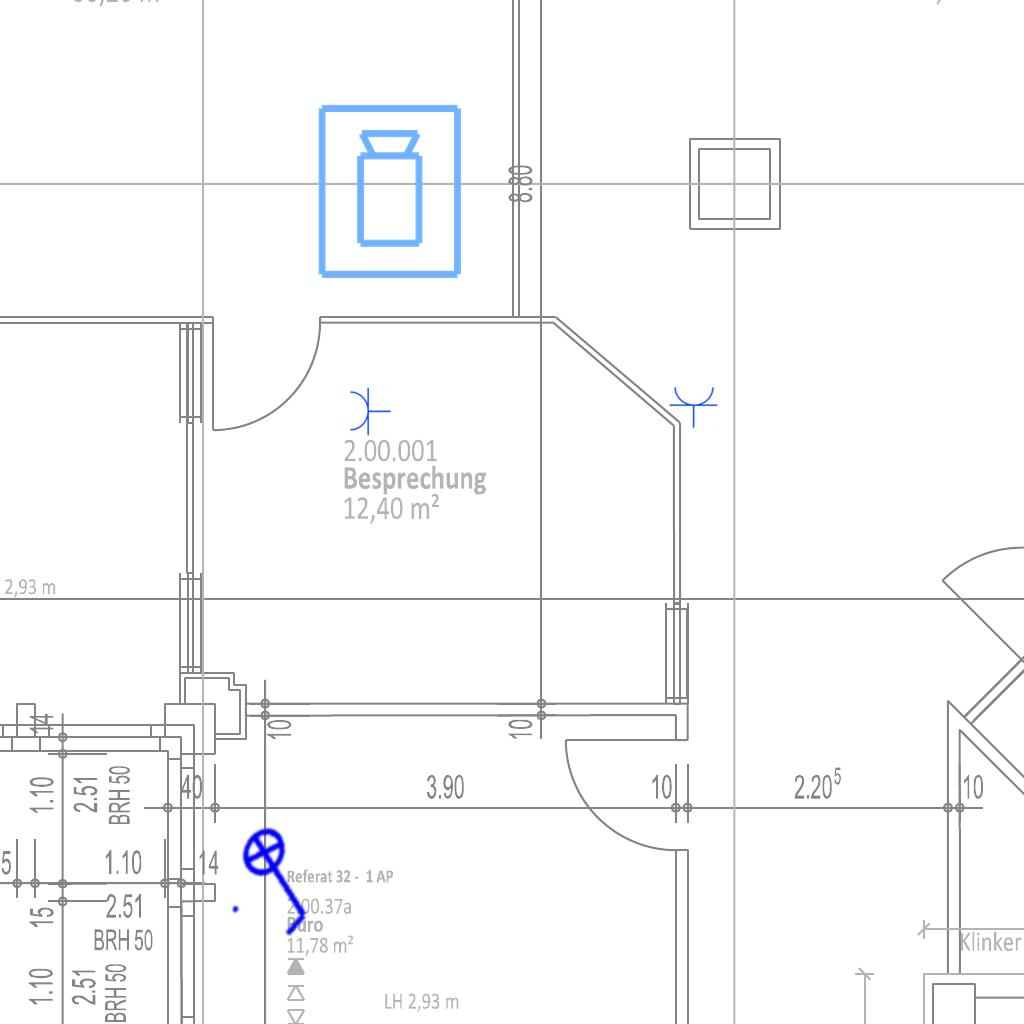Ausschalter_beleuchtet: (212, 807, 348, 951)
KFO_Kamera_mit_Festobjektiv: (314, 101, 468, 283)
Schukosteckdose_einfach: (348, 386, 391, 436), (669, 385, 719, 428)
